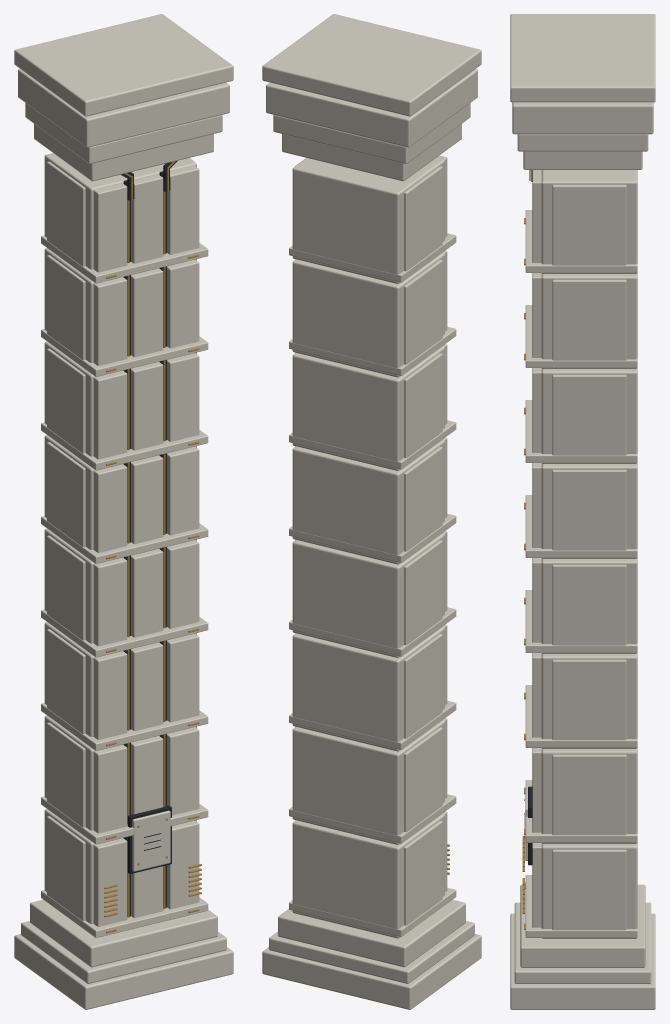
File: SM_Aurelion_KIT_Z08EngagedPier.fbx
3 renders of one model, left to right at view 1: azimuth 30°, elevation 25°; view 2: azimuth 150°, elevation 25°; view 3: azimuth 270°, elevation 25°, orthographic.
Parts seen in each view (by area): view 1: SM_Aurelion_KIT_Z08EngagedPier; view 2: SM_Aurelion_KIT_Z08EngagedPier; view 3: SM_Aurelion_KIT_Z08EngagedPier.
Part boxes in pixels (x1=…): SM_Aurelion_KIT_Z08EngagedPier: x1=14, y1=14, x2=233, y2=1009; SM_Aurelion_KIT_Z08EngagedPier: x1=262, y1=14, x2=481, y2=1009; SM_Aurelion_KIT_Z08EngagedPier: x1=510, y1=14, x2=655, y2=1009.
Size of the model in its own units: 120 by 100 by 700.
